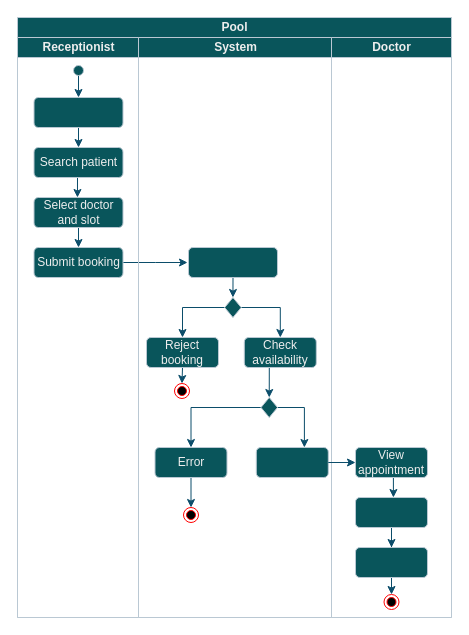
Image size: 469x635. Some labels were removed from this diagram. Here are the shapes that lost their labels. From the top down, the centre of each, then its label:
pixel 78 112: Log in
pixel 233 262: Check permission
pixel 291 462: Create appointment
pixel 391 512: Record notes
pixel 391 562: Mark completed
